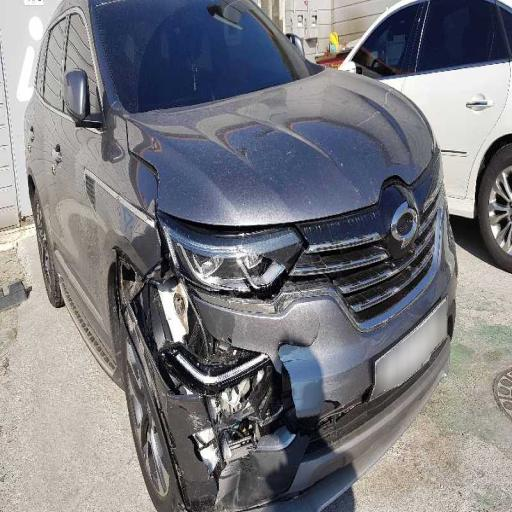broken: (113, 206, 301, 512)
